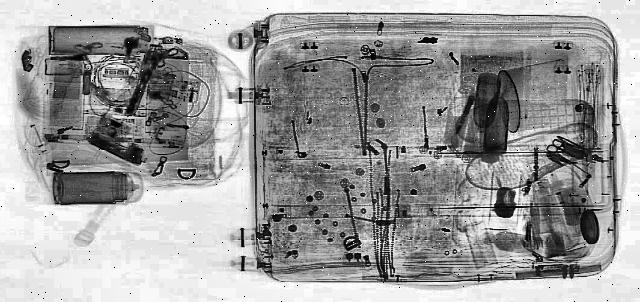Scissors: (537, 138, 593, 162)
